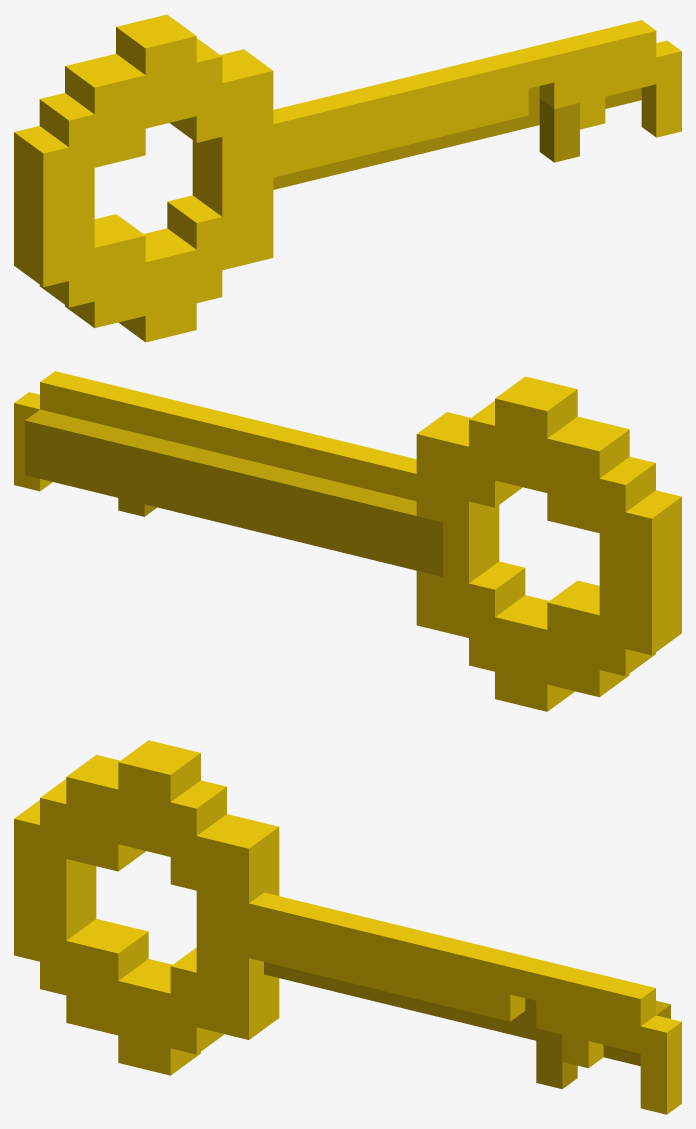
Rendered from key1.glb.
The picture shows the model from 3 angles, top to bottom: view 1: azimuth 30°, elevation 25°; view 2: azimuth 150°, elevation 25°; view 3: azimuth 330°, elevation 25°; orthographic projection. The views are drawn at different scales.
Visible parts, largest first — view 1: Untitled; view 2: Untitled; view 3: Untitled.
Boxes of the visible parts, x1,y1,x2,y2 form: Untitled: (14,14,681,342); Untitled: (14,371,681,711); Untitled: (14,740,681,1114).
Size of the model in its own units: 2.5 by 1.1 by 0.2.
1 material, 1 textured.
